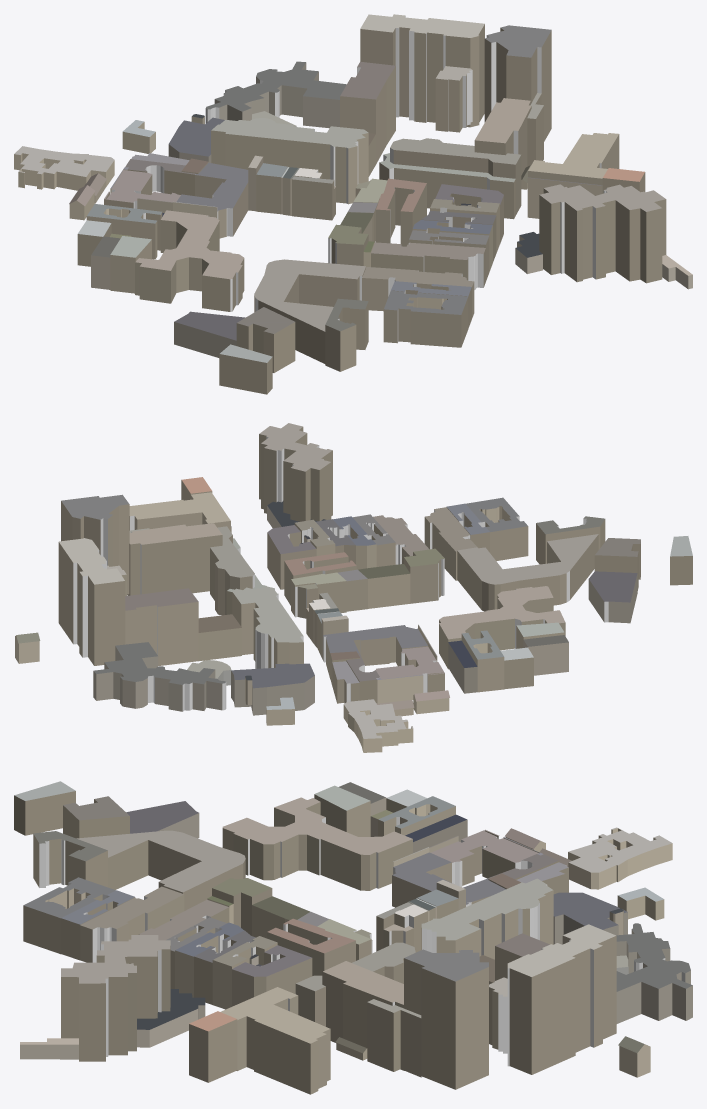
3 views of the same model, one above another, from view 1: azimuth 30°, elevation 25°; view 2: azimuth 150°, elevation 25°; view 3: azimuth 270°, elevation 25° (orthographic). The views are drawn at different scales.
Parts seen in each view (by area): view 1: tuile; view 2: tuile; view 3: tuile.
Part boxes in pixels (<box>): tuile: <box>14,14,692,394</box>; tuile: <box>15,423,692,752</box>; tuile: <box>14,781,692,1094</box>.
Bounding box in the file's own units: 266 × 54.4 × 278.
